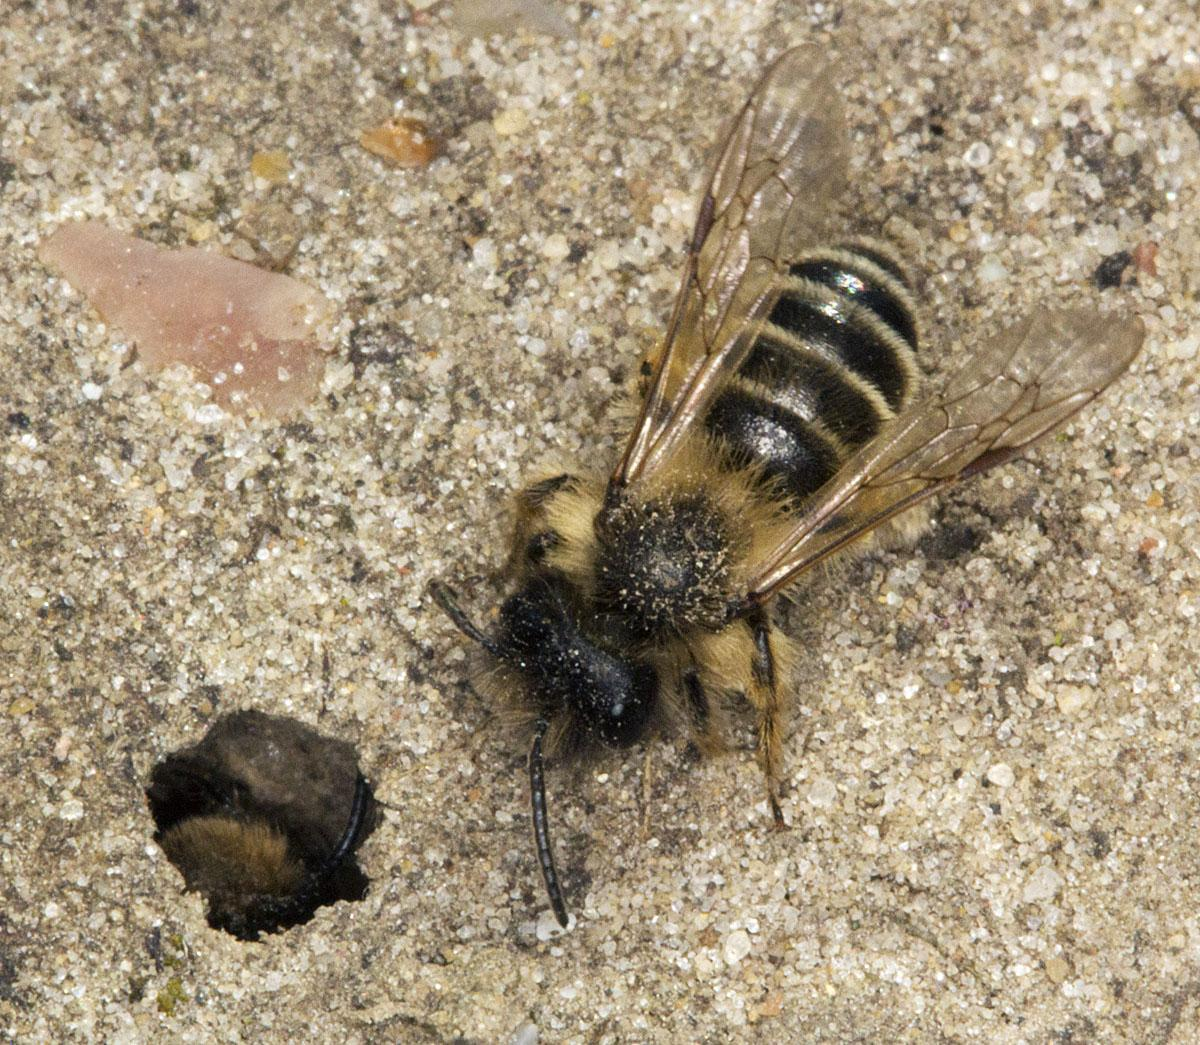Allodapula: (399, 28, 1166, 924)
